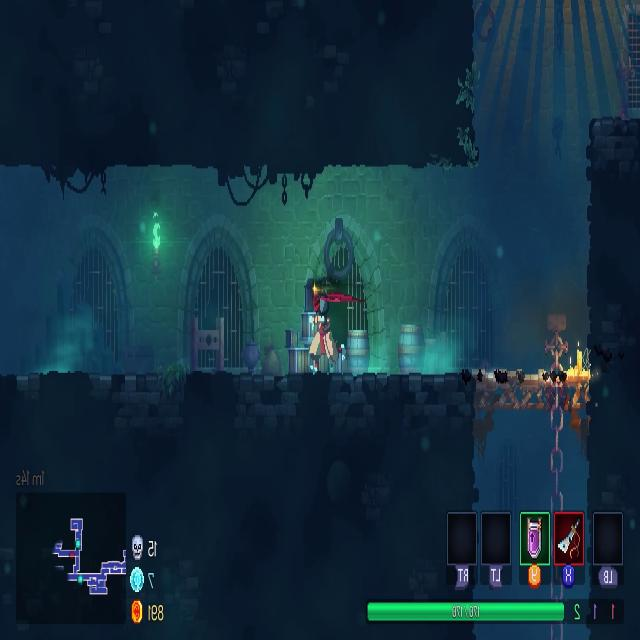agents: (302, 283, 334, 377)
